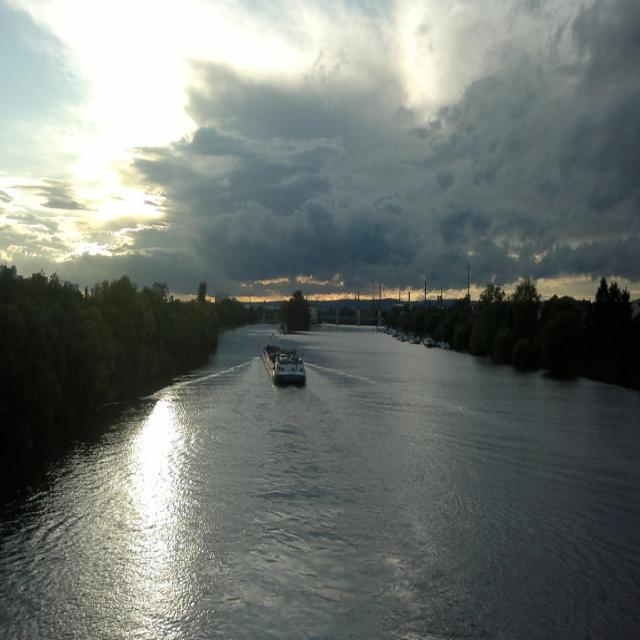Boat: (262, 319, 312, 382)
